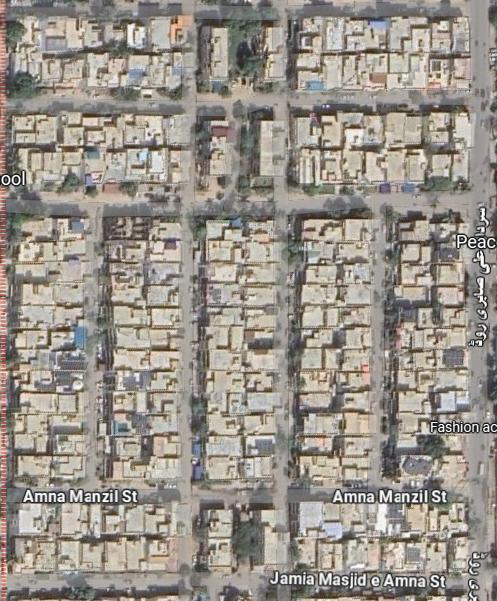Buildings: (97, 220, 182, 483), (7, 215, 89, 477), (197, 219, 276, 485), (387, 219, 465, 480), (297, 213, 372, 476), (7, 14, 184, 93), (290, 14, 466, 93), (290, 112, 470, 189), (9, 114, 182, 194), (295, 500, 471, 568), (12, 502, 181, 568), (197, 23, 281, 97), (198, 120, 270, 190), (204, 506, 275, 568)
